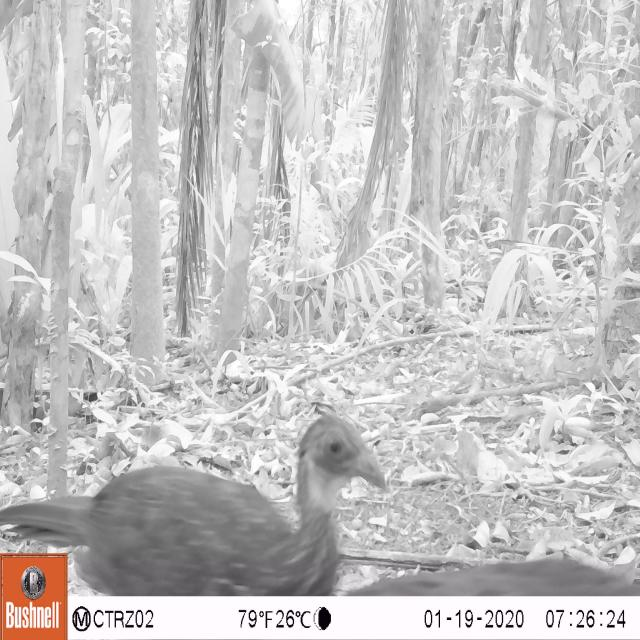Spixs Guan: (0, 406, 395, 596)
